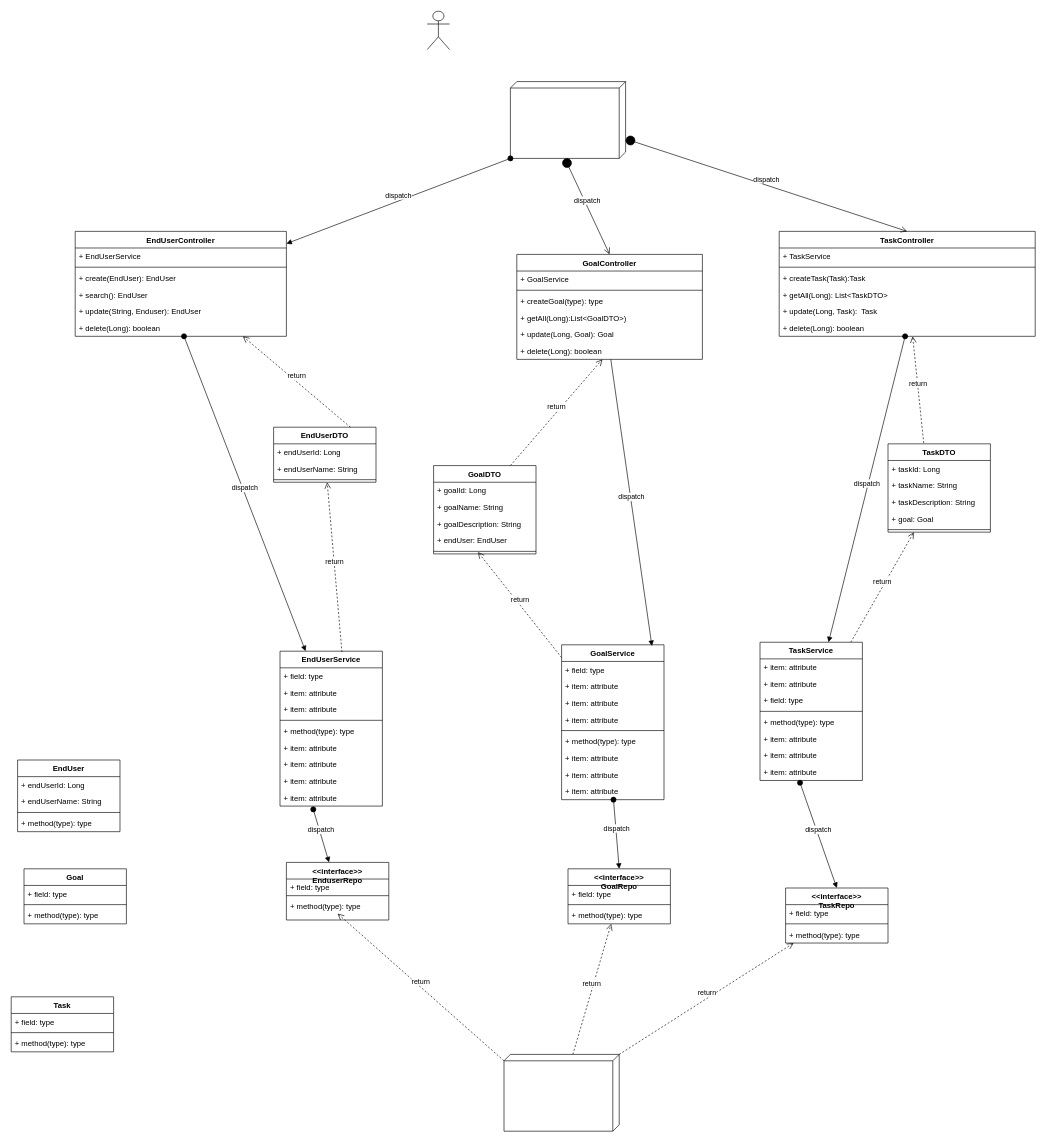
Some shapes in this 1046 by 1142 pixel diagram are drawn without their labels. Here are the shapes that lost their labels. From the top down, the centre of each, then its label:
At [438,30]: "Actor".
At [568,119]: "FRONT END".
At [561,1092]: "Database".
